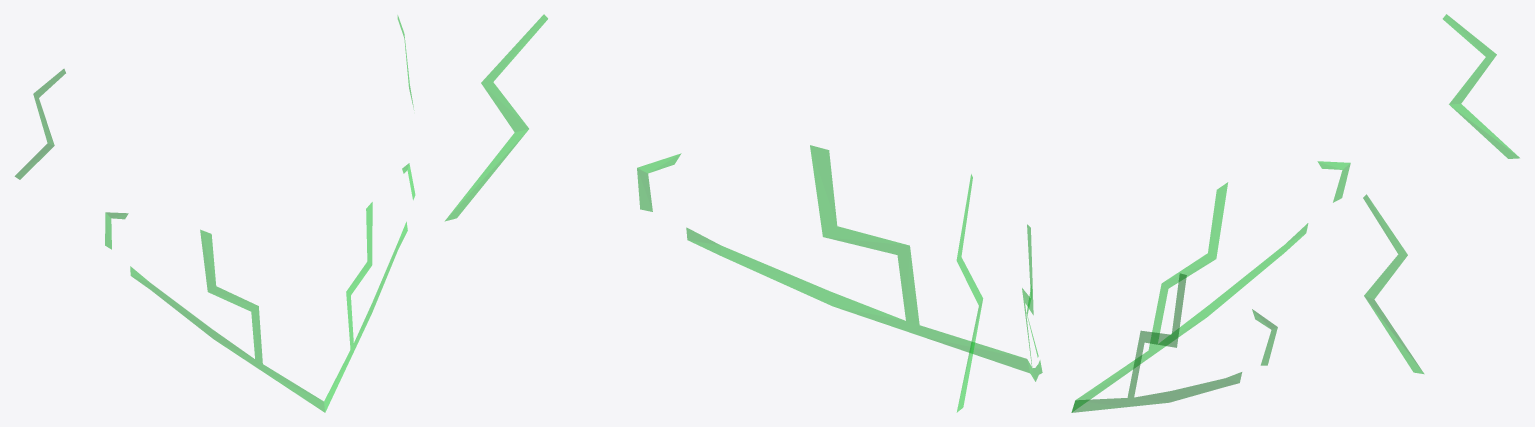
Rendered from ZXWm_052_artillery_t1_buff02.FBX.
The picture shows the model from 3 angles, left to right: view 1: azimuth 30°, elevation 25°; view 2: azimuth 150°, elevation 25°; view 3: azimuth 270°, elevation 25°; orthographic projection. The views are drawn at different scales.
Visible parts, largest first — view 1: BUFF_02; view 2: BUFF_02; view 3: BUFF_02.
Boxes of the visible parts, box(x1,y1,x2,y2) form: BUFF_02: box(15, 15, 415, 412); BUFF_02: box(445, 14, 1042, 412); BUFF_02: box(1071, 14, 1519, 412).
Bounding box in the file's own units: 83.21 × 58.64 × 71.17.
